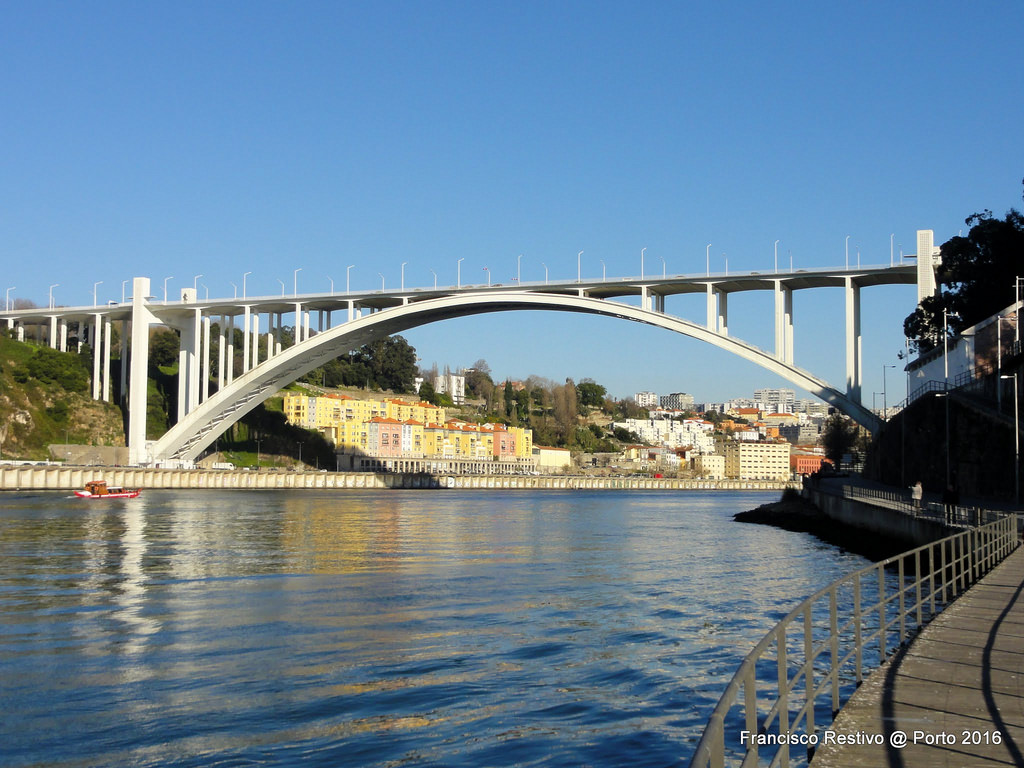arrabida: (0, 226, 952, 470)
